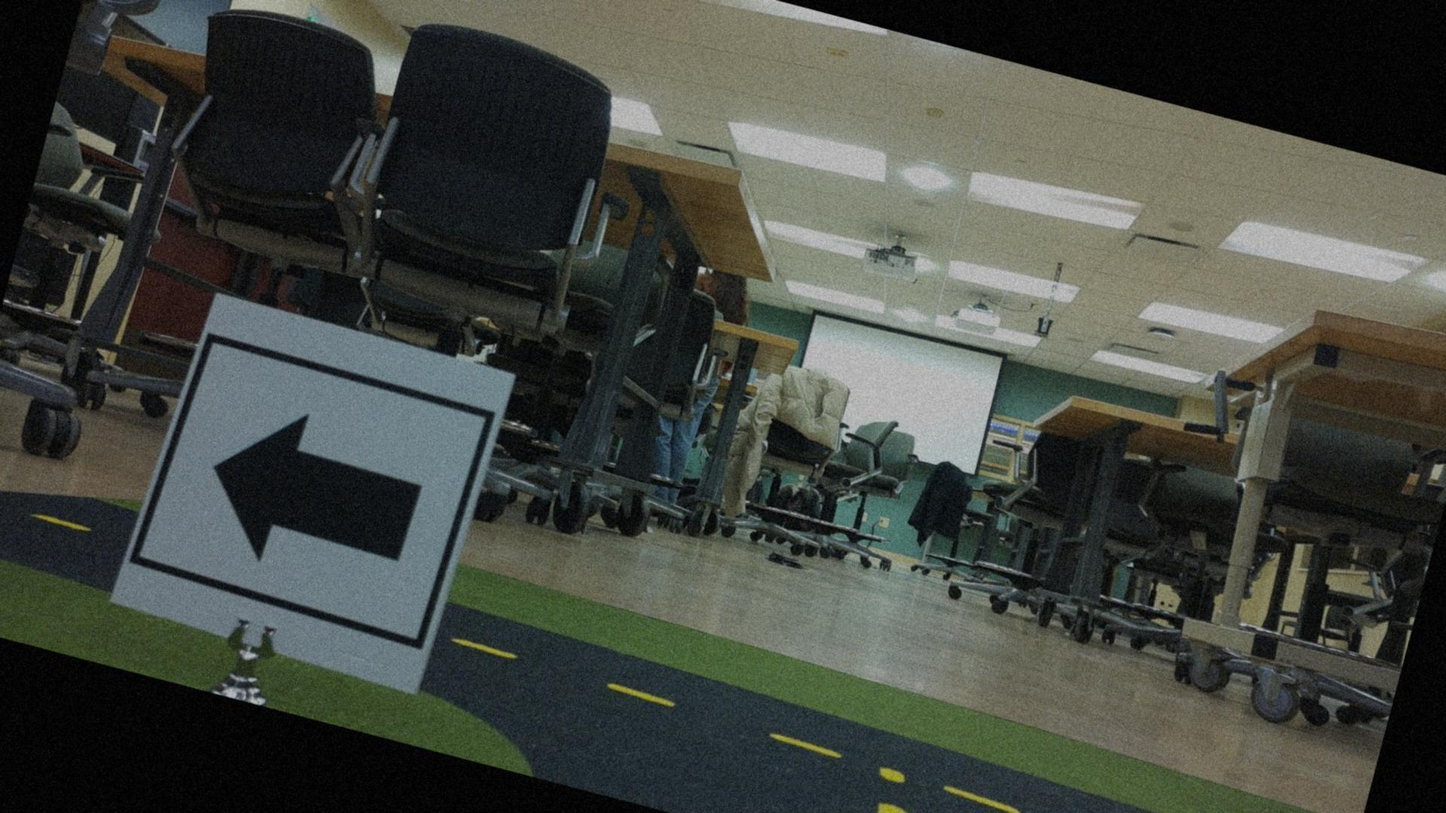turnleft: (132, 297, 505, 683)
yellowline: (449, 635, 1225, 812)
